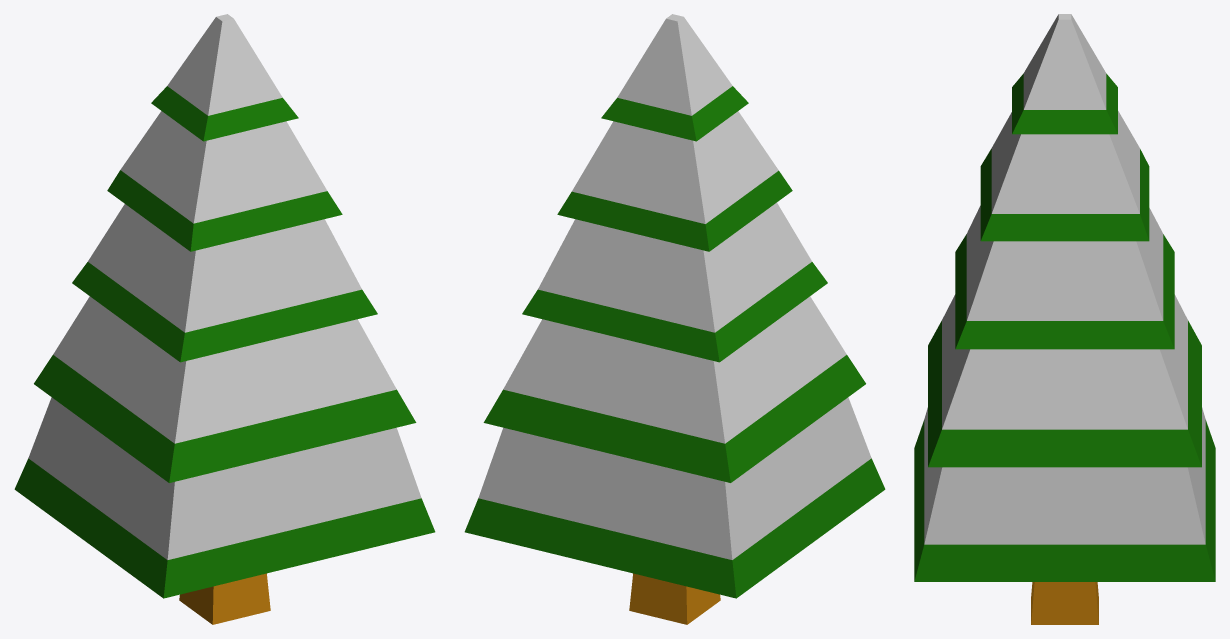
The model's file is pinetree.fbx.
The picture shows the model from 3 angles, left to right: view 1: azimuth 30°, elevation 25°; view 2: azimuth 150°, elevation 25°; view 3: azimuth 270°, elevation 25°; orthographic projection.
Visible parts, largest first — view 1: Cube; view 2: Cube; view 3: Cube.
Boxes of the visible parts, x1,y1,x2,y2 form: Cube: (14,14,435,624); Cube: (464,14,885,624); Cube: (914,14,1215,624).
Size of the model in its own units: 236 by 488 by 224.
